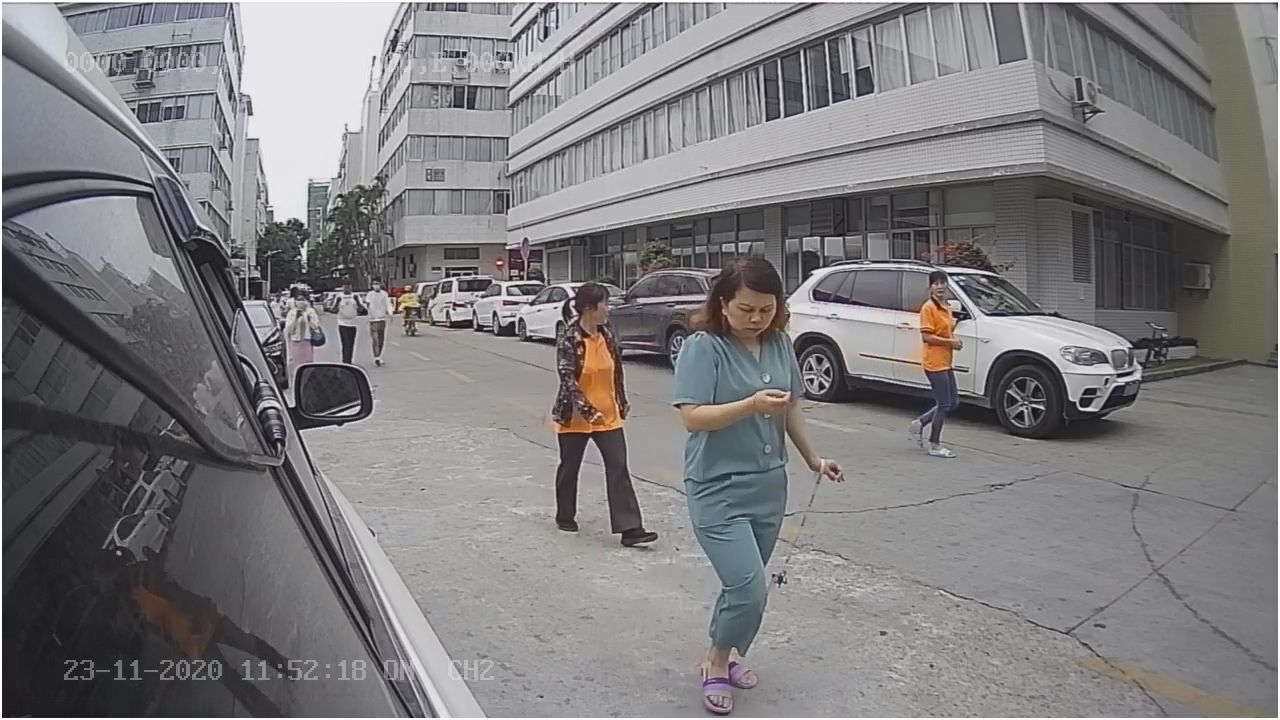person: (681, 256, 816, 699), (545, 278, 632, 543), (911, 264, 966, 452)
